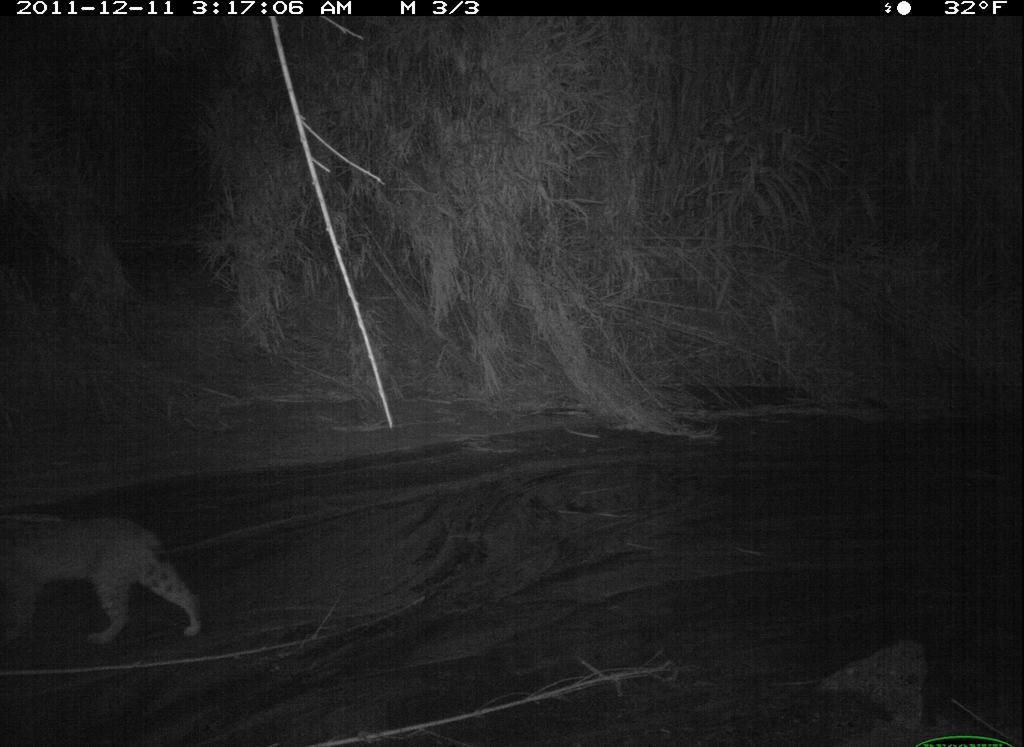bobcat: (3, 506, 207, 652)
